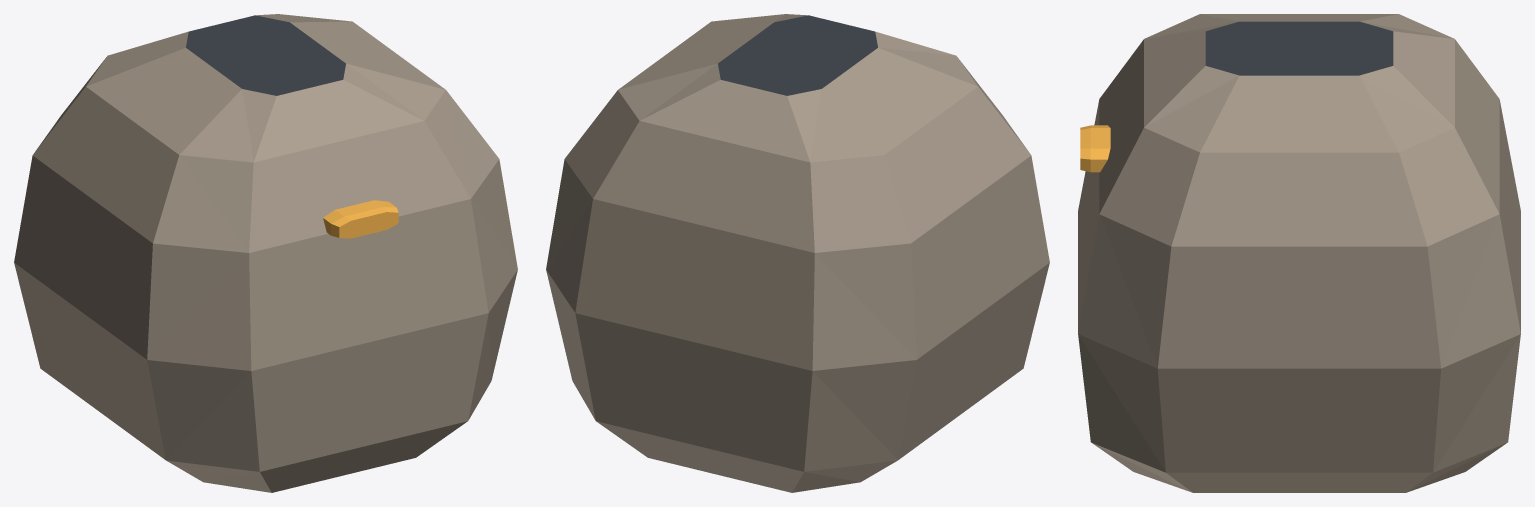
Rendered from pauldron_light.glb.
3 views of the same model, side by side, from view 1: azimuth 30°, elevation 25°; view 2: azimuth 150°, elevation 25°; view 3: azimuth 270°, elevation 25° (orthographic). The views are drawn at different scales.
Parts seen in each view (by area): view 1: pauldron_light; view 2: pauldron_light; view 3: pauldron_light.
Boxes of the visible parts, box(x1,y1,x2,y2) form: pauldron_light: box(14, 14, 517, 492); pauldron_light: box(546, 14, 1049, 492); pauldron_light: box(1078, 14, 1520, 492).
Size of the model in its own units: 1.07 by 1 by 1.04.
